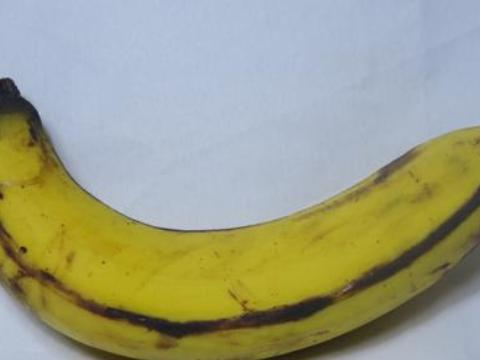ripe: (0, 63, 479, 359)
